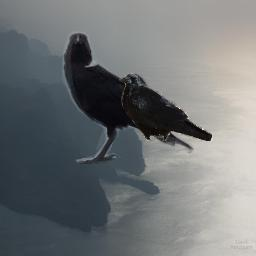Crow: (61, 31, 194, 164), (119, 73, 213, 141)
